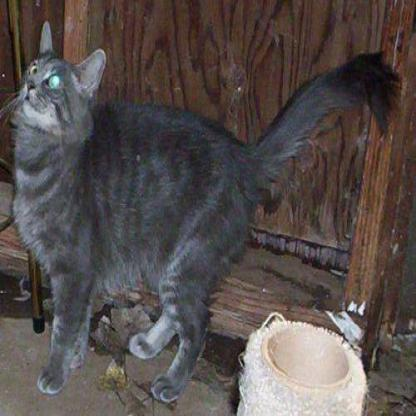cat: (14, 34, 371, 396)
